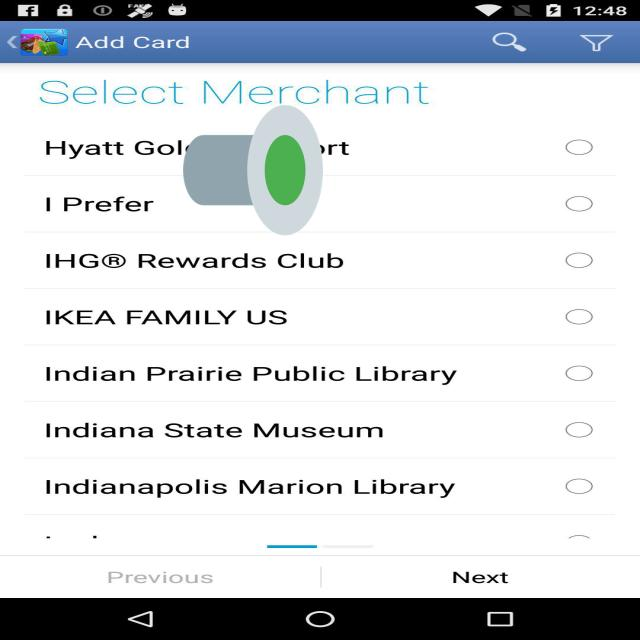social proof: (183, 49, 323, 290)
